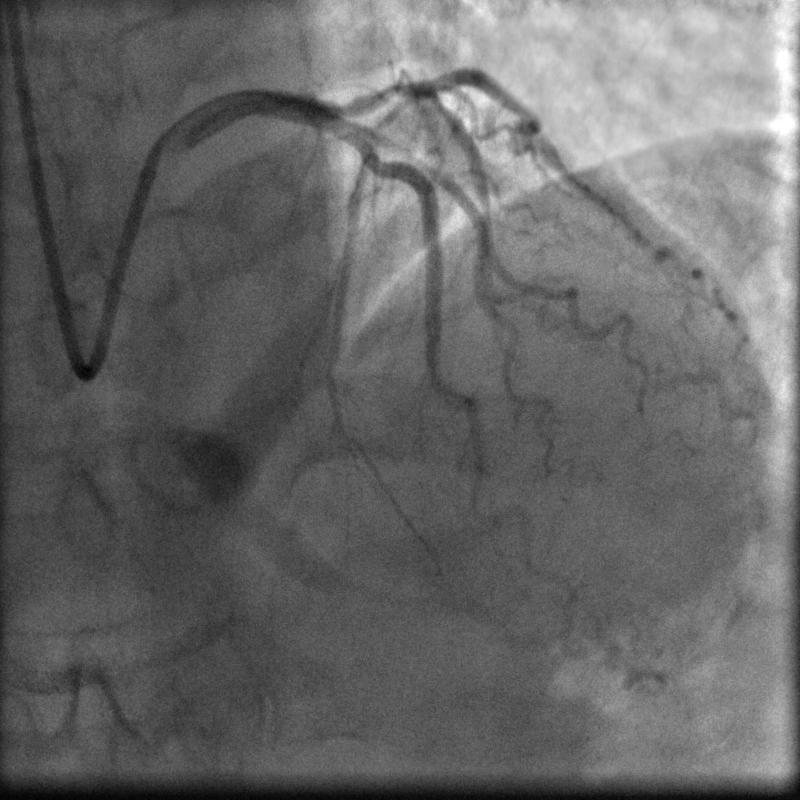Stenosis: (326, 77, 394, 116)
